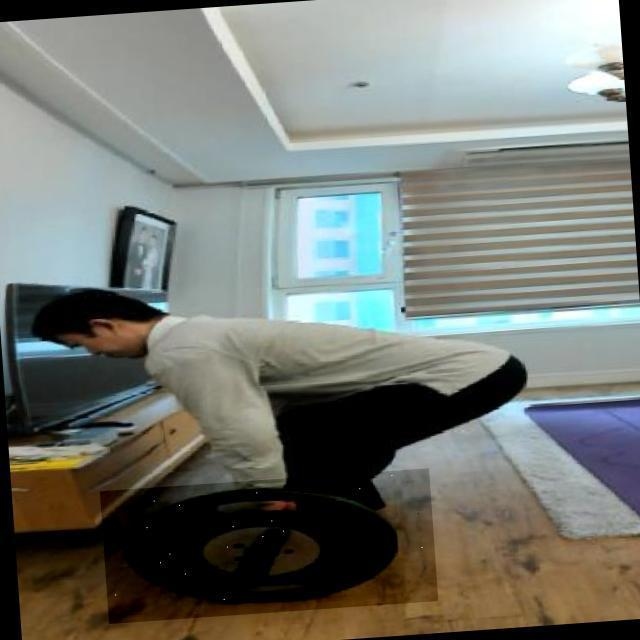barbell: (101, 469, 439, 625)
